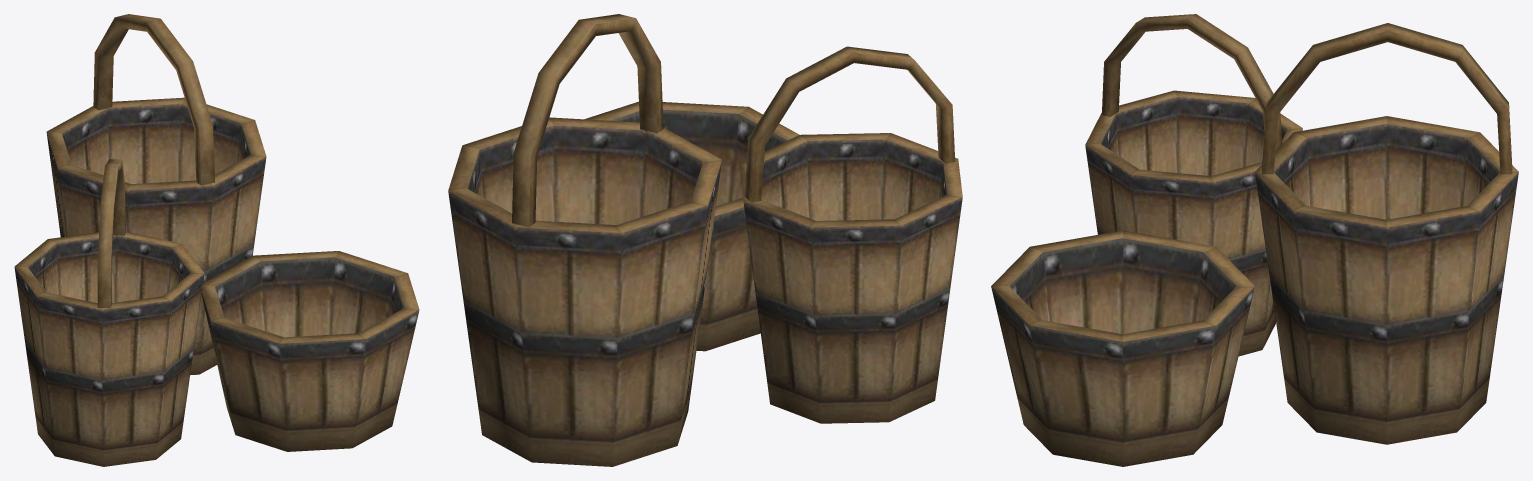
Rendered from euro_esteuro_basketdummy.glb.
3 views of the same model, side by side, from view 1: azimuth 30°, elevation 25°; view 2: azimuth 150°, elevation 25°; view 3: azimuth 270°, elevation 25° (orthographic). The views are drawn at different scales.
Parts seen in each view (by area): view 1: euro_esteuro_basketdummy; view 2: euro_esteuro_basketdummy; view 3: euro_esteuro_basketdummy.
Part boxes in pixels (x1,y1,x2,y2): euro_esteuro_basketdummy: [14, 14, 419, 466]; euro_esteuro_basketdummy: [448, 14, 962, 466]; euro_esteuro_basketdummy: [991, 14, 1518, 466].
Bounding box in the file's own units: 1.28 × 1.14 × 1.45.
Materials: 1 (1 with a texture image).
